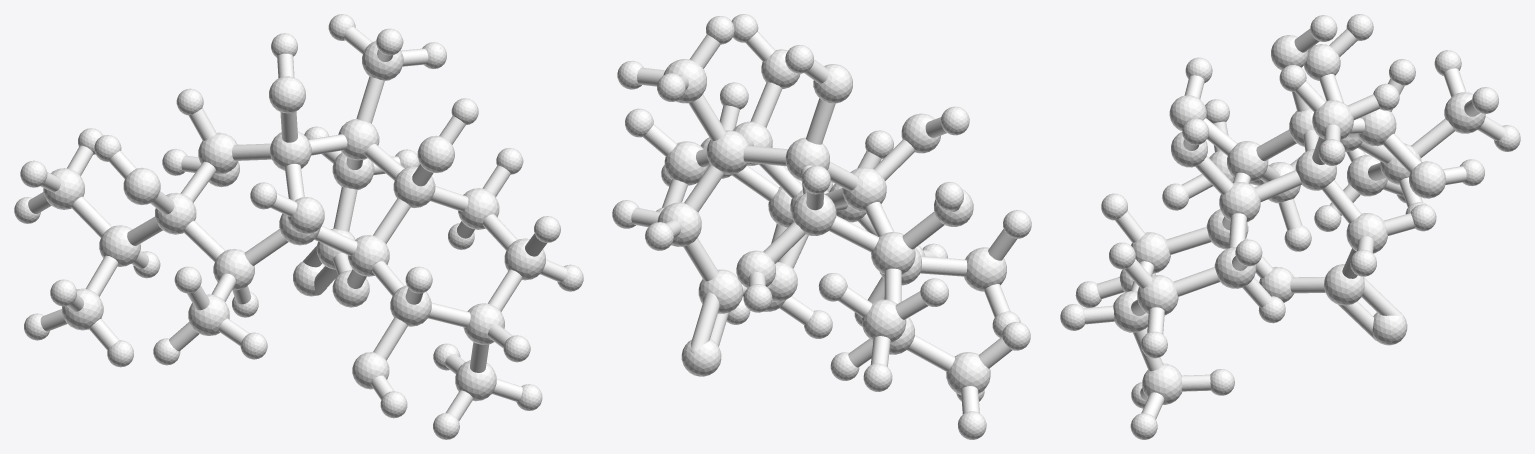
The model's file is FBX_Ryanodol.fbx.
The picture shows the model from 3 angles, left to right: view 1: azimuth 30°, elevation 25°; view 2: azimuth 150°, elevation 25°; view 3: azimuth 270°, elevation 25°; orthographic projection. The views are drawn at different scales.
Parts seen in each view (by area): view 1: node_id3; view 2: node_id3; view 3: node_id3.
Part boxes in pixels (box(x1,y1,x2,y2)): node_id3: box(14, 14, 583, 439); node_id3: box(612, 14, 1031, 439); node_id3: box(1060, 14, 1520, 439).
Size of the model in its own units: 0.4473 by 0.3491 by 0.4092.
1 material, 1 textured.
